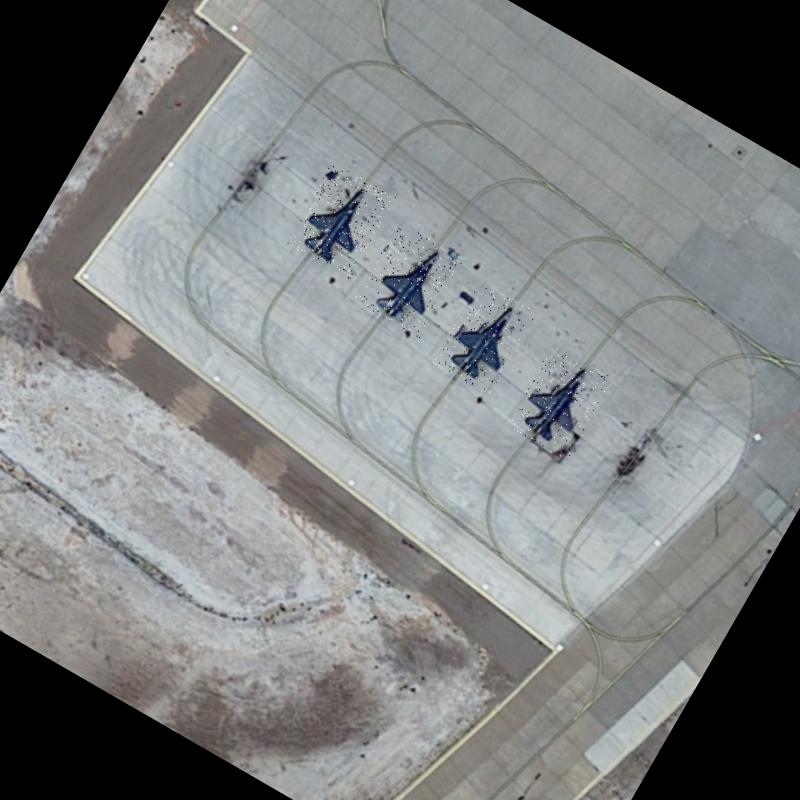A5: (284, 162, 396, 280), (353, 220, 465, 338), (504, 344, 614, 462), (432, 279, 538, 396)
